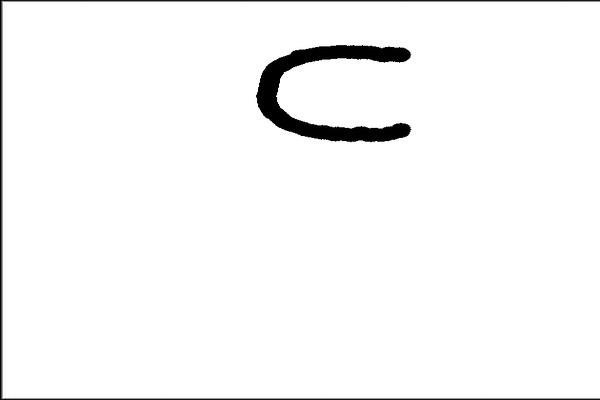C: (251, 33, 418, 152)
